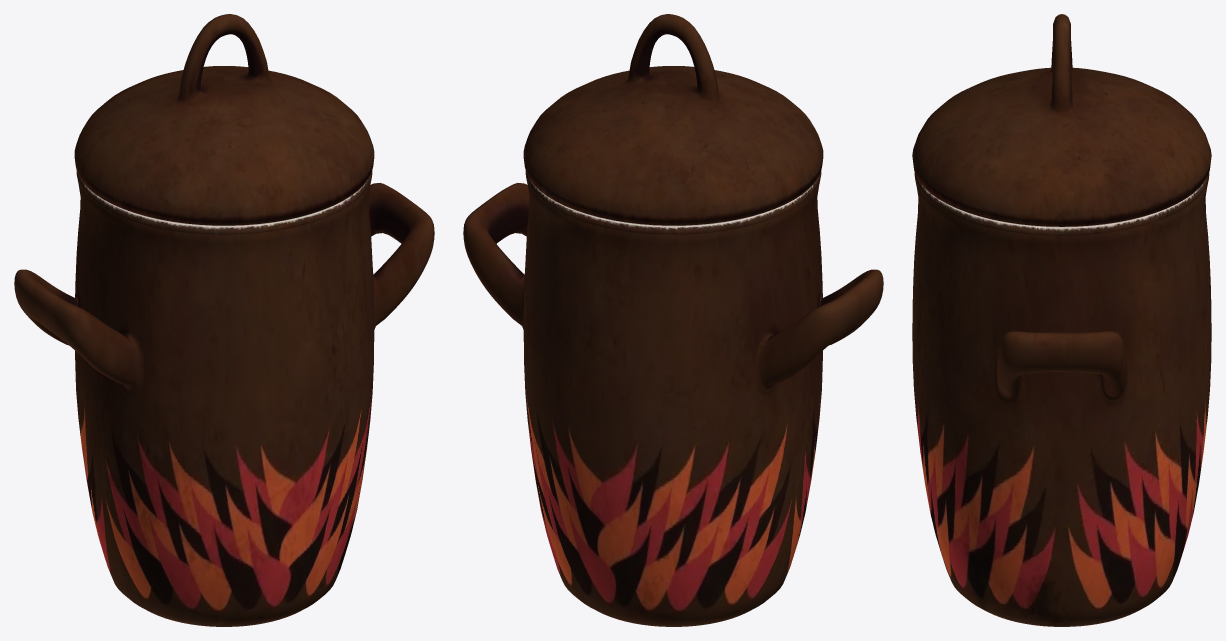
File: enamel_pot.glb
The picture shows the model from 3 angles, left to right: view 1: azimuth 30°, elevation 25°; view 2: azimuth 150°, elevation 25°; view 3: azimuth 270°, elevation 25°; orthographic projection.
Visible parts, largest first — view 1: pot_enamel_01_base.001, pot_enamel_01_lid.001; view 2: pot_enamel_01_base.001, pot_enamel_01_lid.001; view 3: pot_enamel_01_base.001, pot_enamel_01_lid.001.
Part boxes in pixels (x1=…): pot_enamel_01_base.001: x1=14, y1=171, x2=434, y2=626; pot_enamel_01_lid.001: x1=74, y1=14, x2=374, y2=225; pot_enamel_01_base.001: x1=463, y1=171, x2=883, y2=626; pot_enamel_01_lid.001: x1=523, y1=14, x2=823, y2=225; pot_enamel_01_base.001: x1=912, y1=172, x2=1211, y2=626; pot_enamel_01_lid.001: x1=912, y1=14, x2=1211, y2=226.
Size of the model in its own units: 6.09 by 8.77 by 4.18.
1 material, 1 textured.
